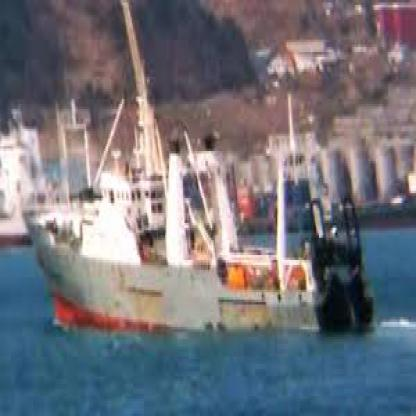fish-b: (15, 72, 380, 352)
